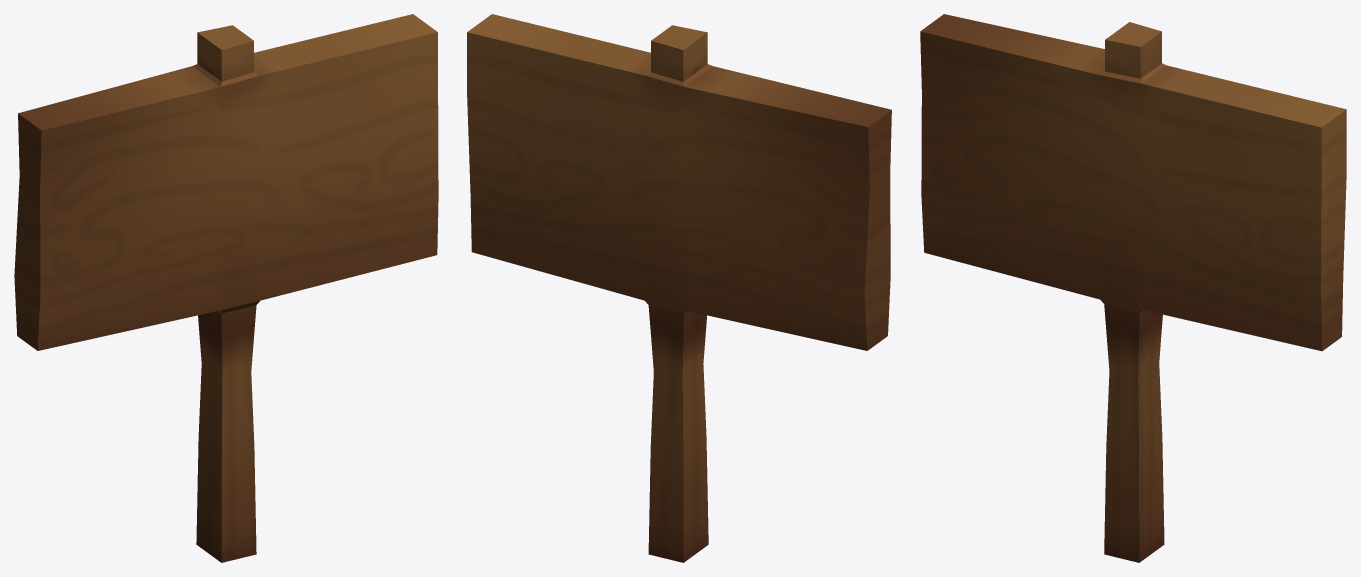
Rendered from Sign.fbx.
The picture shows the model from 3 angles, left to right: view 1: azimuth 30°, elevation 25°; view 2: azimuth 150°, elevation 25°; view 3: azimuth 330°, elevation 25°; orthographic projection.
Visible parts, largest first — view 1: Sign; view 2: Sign; view 3: Sign.
Part boxes in pixels (x1=…): Sign: x1=14, y1=14, x2=438, y2=562; Sign: x1=467, y1=14, x2=891, y2=562; Sign: x1=920, y1=14, x2=1346, y2=562.
Bounding box in the file's own units: 168 × 206 × 20.84.
